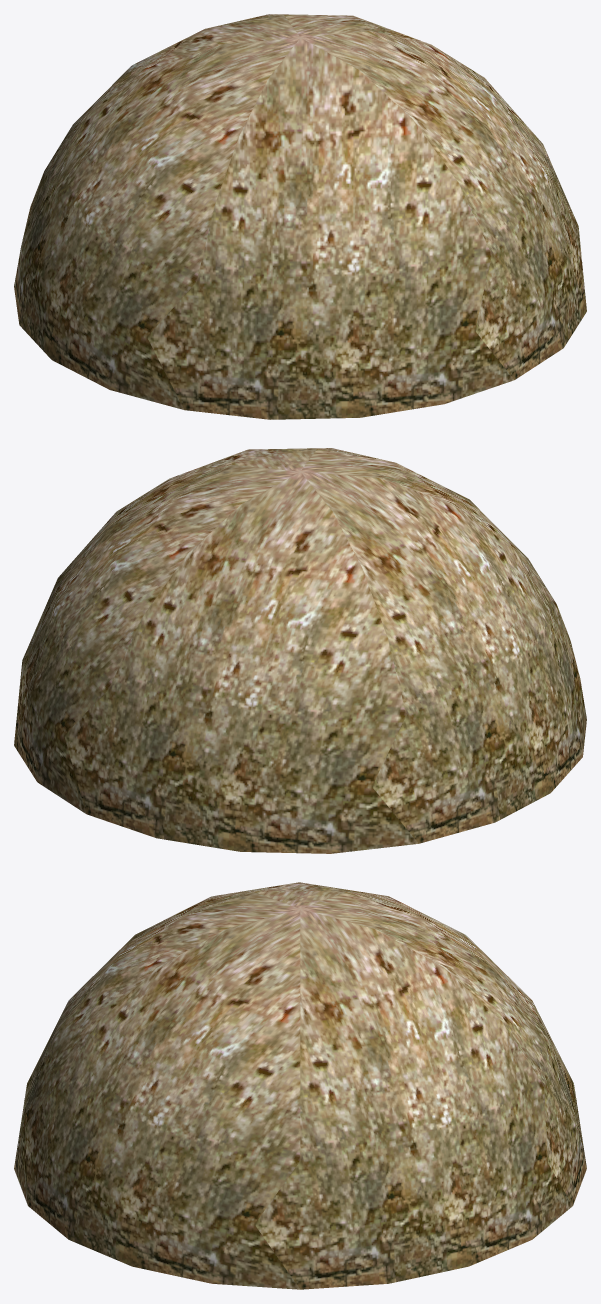
Rendered from Mission8_DomeBuildingExt_A.glb.
The picture shows the model from 3 angles, top to bottom: view 1: azimuth 30°, elevation 25°; view 2: azimuth 150°, elevation 25°; view 3: azimuth 270°, elevation 25°; orthographic projection.
Visible parts, largest first — view 1: MISSION8_DOMEBUILDINGEXT_A; view 2: MISSION8_DOMEBUILDINGEXT_A; view 3: MISSION8_DOMEBUILDINGEXT_A.
Part boxes in pixels (bbox=[...]): MISSION8_DOMEBUILDINGEXT_A: bbox=[14, 14, 586, 419]; MISSION8_DOMEBUILDINGEXT_A: bbox=[14, 448, 586, 853]; MISSION8_DOMEBUILDINGEXT_A: bbox=[14, 882, 586, 1289].
Size of the model in its own units: 10 by 5 by 10.
Materials: 1 (1 with a texture image).
